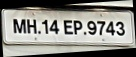character: (12, 18, 26, 34), (26, 18, 37, 34), (63, 19, 73, 35), (72, 19, 82, 35), (105, 20, 115, 36), (49, 19, 59, 34), (86, 20, 96, 35), (115, 21, 125, 36), (96, 20, 105, 36), (41, 19, 48, 34)
